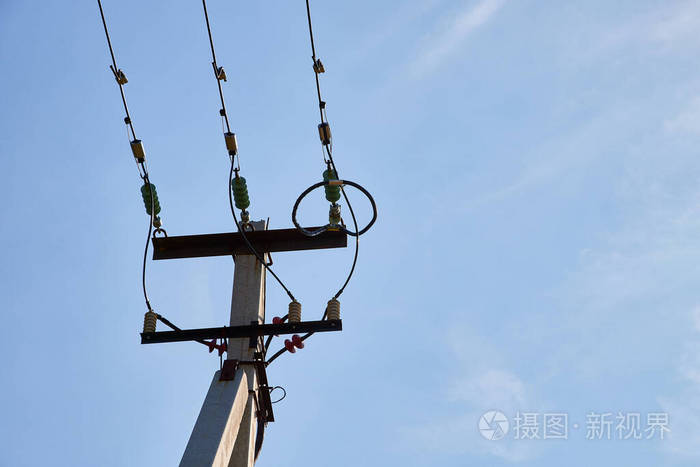insulator: (140, 181, 162, 215), (231, 176, 252, 209), (323, 166, 341, 201)
